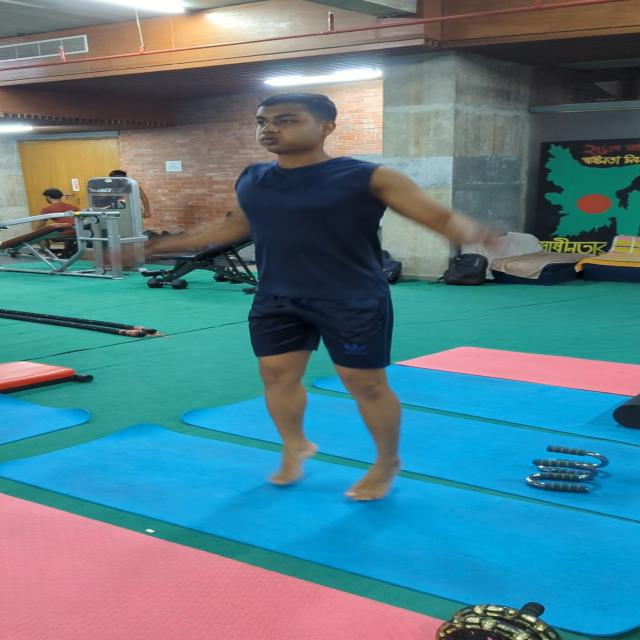Normal_JumpingJacks: (132, 90, 520, 513)
